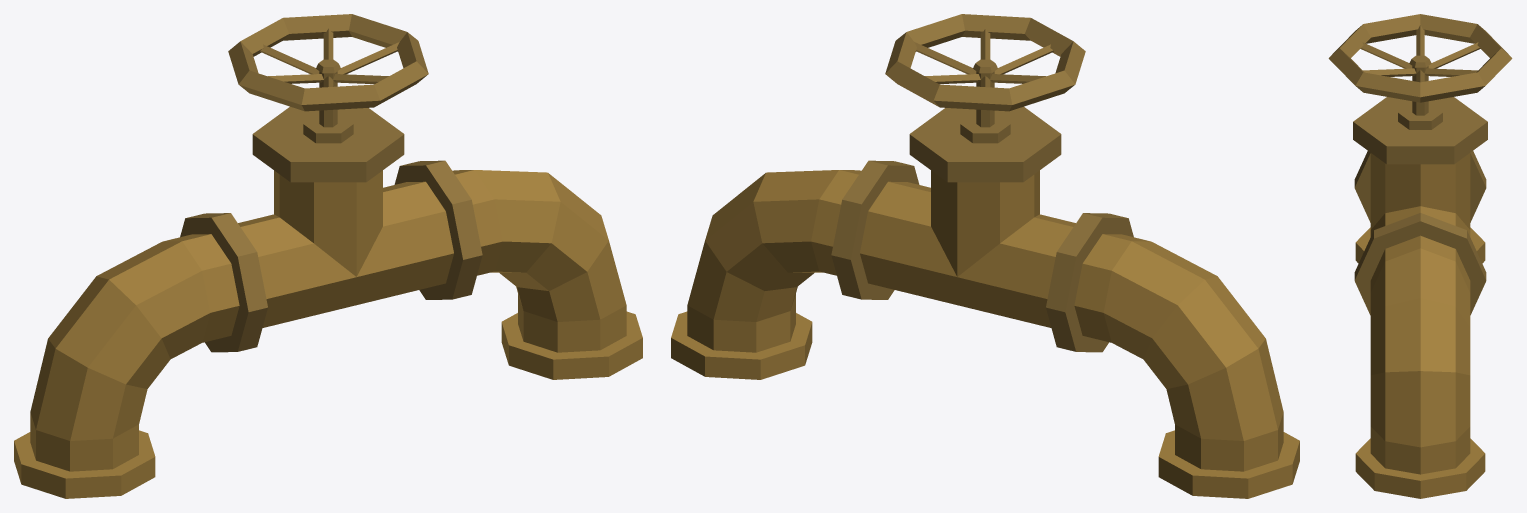
File: SM_Props_Industrial_Pipe_Mid_03.fbx
The picture shows the model from 3 angles, left to right: view 1: azimuth 30°, elevation 25°; view 2: azimuth 150°, elevation 25°; view 3: azimuth 270°, elevation 25°; orthographic projection. The views are drawn at different scales.
Parts seen in each view (by area): view 1: SM_Props_Industrial_Pipe_Mid_03; view 2: SM_Props_Industrial_Pipe_Mid_03; view 3: SM_Props_Industrial_Pipe_Mid_03.
Part boxes in pixels (x1,y1,x2,y2): SM_Props_Industrial_Pipe_Mid_03: (14,14,642,498); SM_Props_Industrial_Pipe_Mid_03: (671,14,1299,498); SM_Props_Industrial_Pipe_Mid_03: (1328,14,1512,498).
Size of the model in its own units: 630 by 351 by 184.
